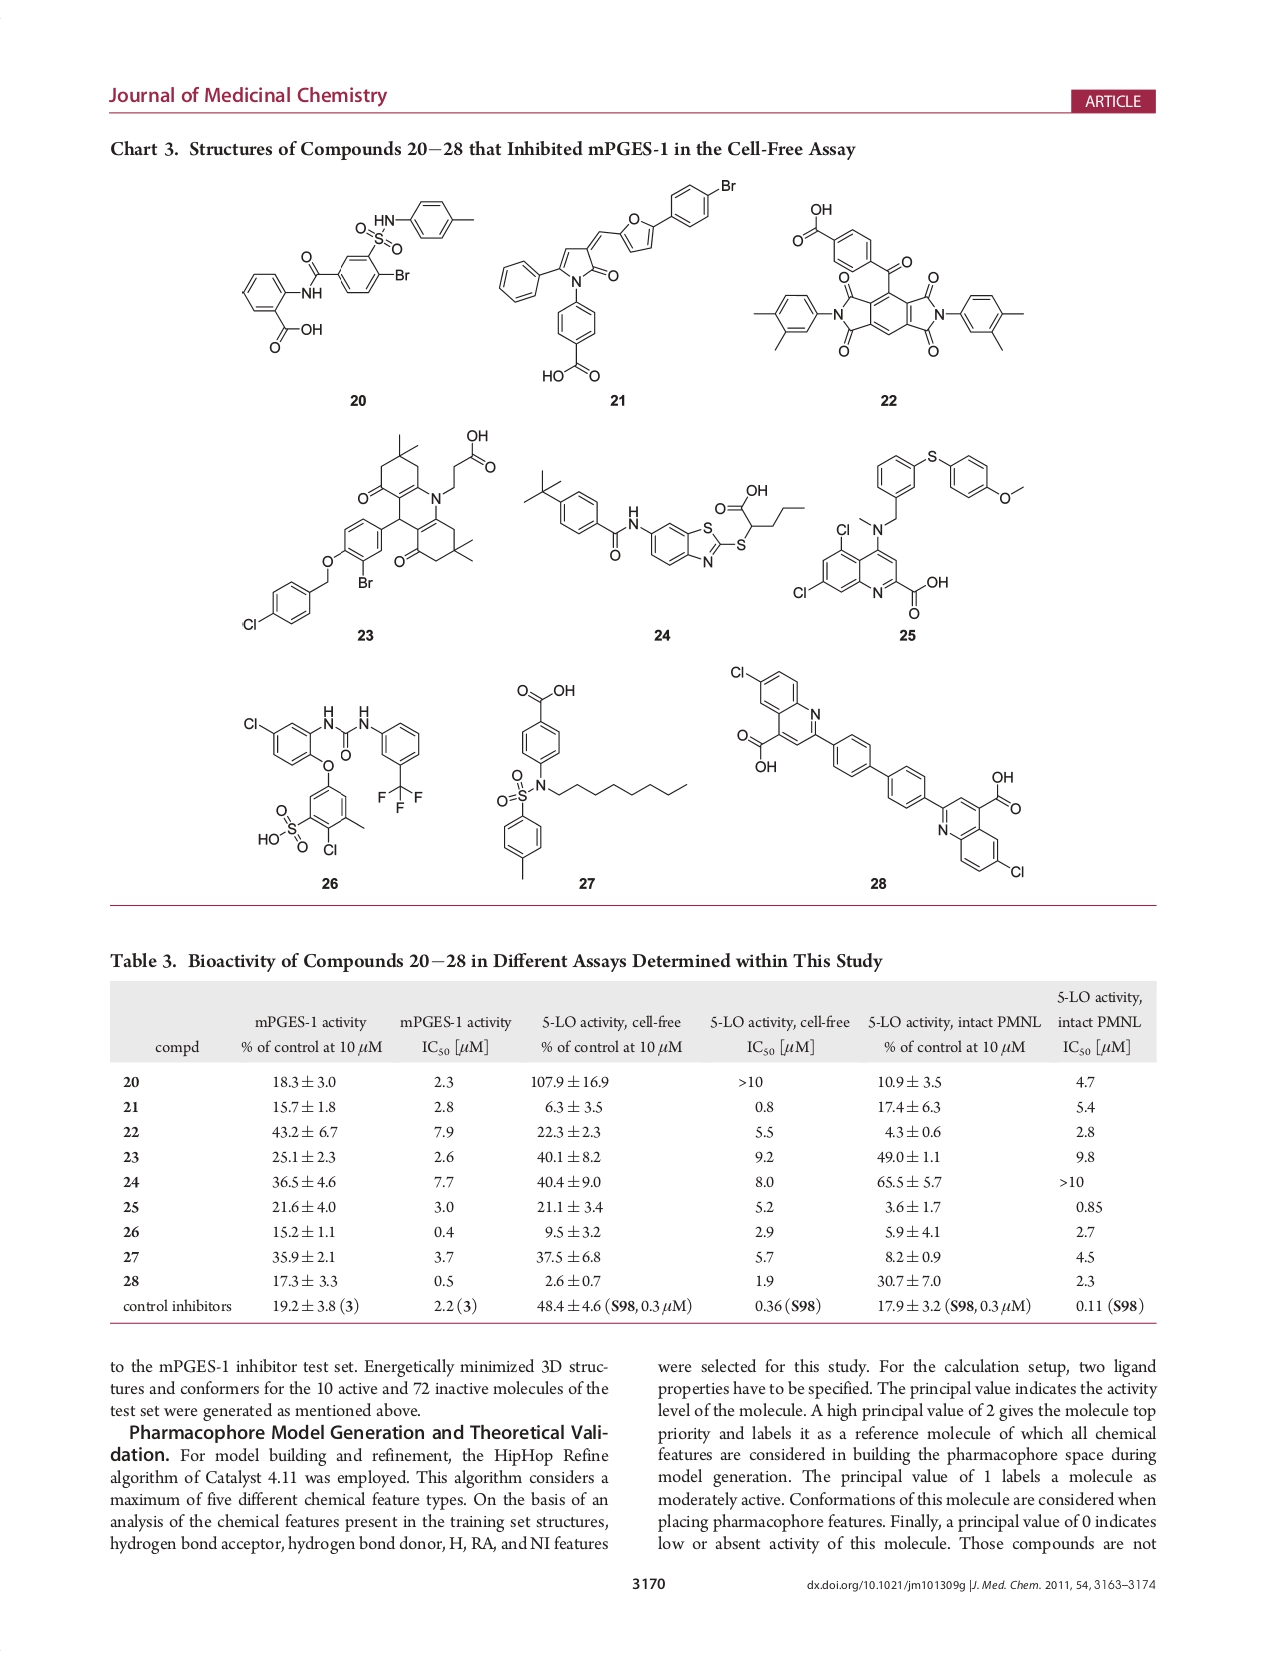exist_molecular: (726, 657, 1031, 879), (237, 426, 499, 632), (496, 176, 737, 384), (749, 201, 1025, 362), (488, 677, 692, 883), (789, 447, 1025, 621), (235, 197, 476, 356), (519, 461, 810, 571), (239, 700, 428, 856)
